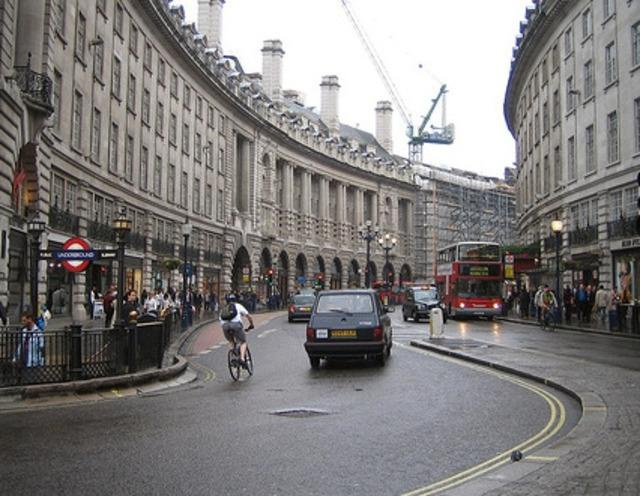non-vehicle: (226, 326, 252, 380), (538, 305, 559, 333)
